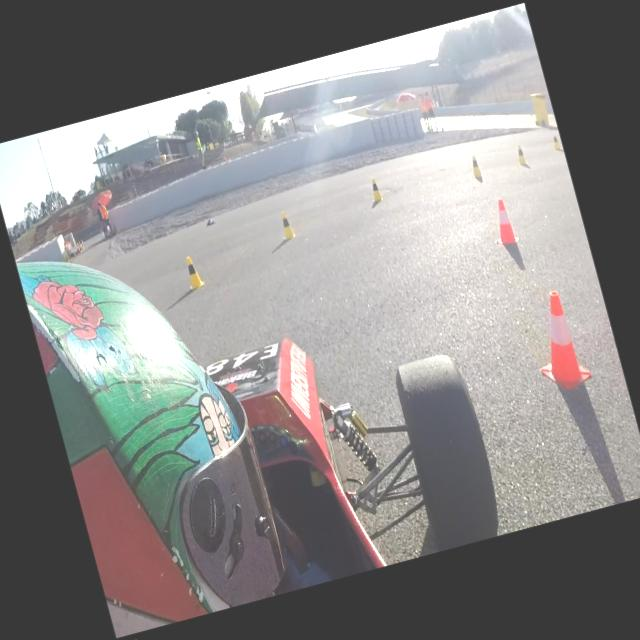orange_cone: (522, 286, 594, 394), (485, 196, 520, 248)
yellow_cone: (182, 252, 204, 290), (276, 209, 296, 240), (367, 176, 382, 204), (467, 153, 482, 180), (514, 144, 528, 167), (550, 131, 562, 151)
